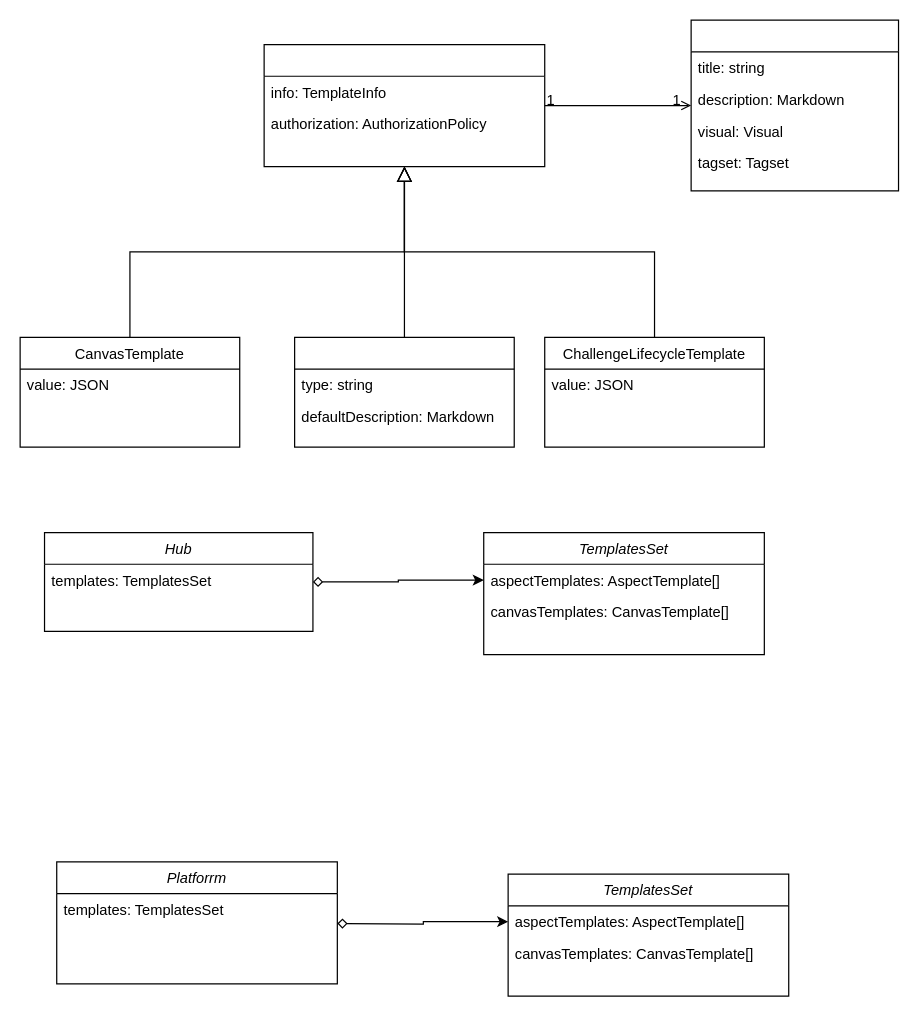
This 919x1016 diagram has some shape labels left out. The box of each missing label's shape, as (x1, y1, x2, y2) in pixels:
AspectTemplate: (293, 336, 514, 447)
TemplateBase: (263, 43, 545, 167)
TemplateInfo: (690, 19, 899, 191)
